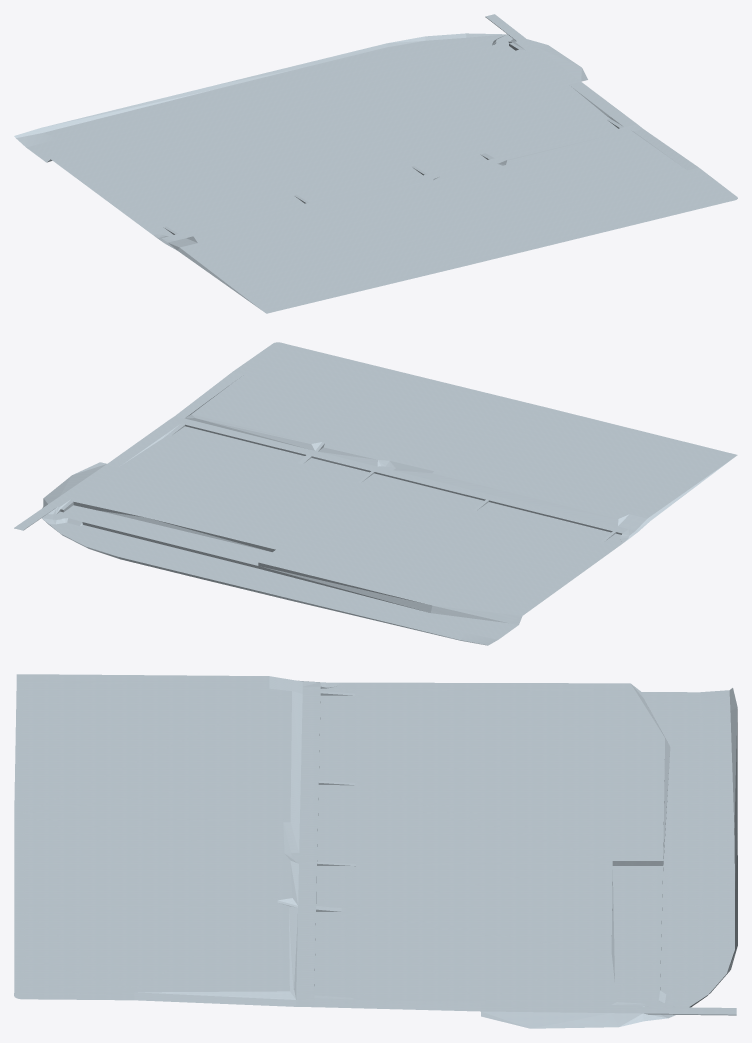
The model's file is 功能灰模.glb.
3 renders of one model, top to bottom at view 1: azimuth 30°, elevation 25°; view 2: azimuth 150°, elevation 25°; view 3: azimuth 270°, elevation 25°, orthographic. The views are drawn at different scales.
Parts seen in each view (by area): view 1: 地面高度; view 2: 地面高度; view 3: 地面高度.
Part boxes in pixels (x1,y1,x2,y2): 地面高度: [14, 14, 737, 313]; 地面高度: [14, 342, 737, 645]; 地面高度: [14, 674, 737, 1028].
Size of the model in its own units: 1611 by 36.35 by 1440.
1 material, 1 textured.
